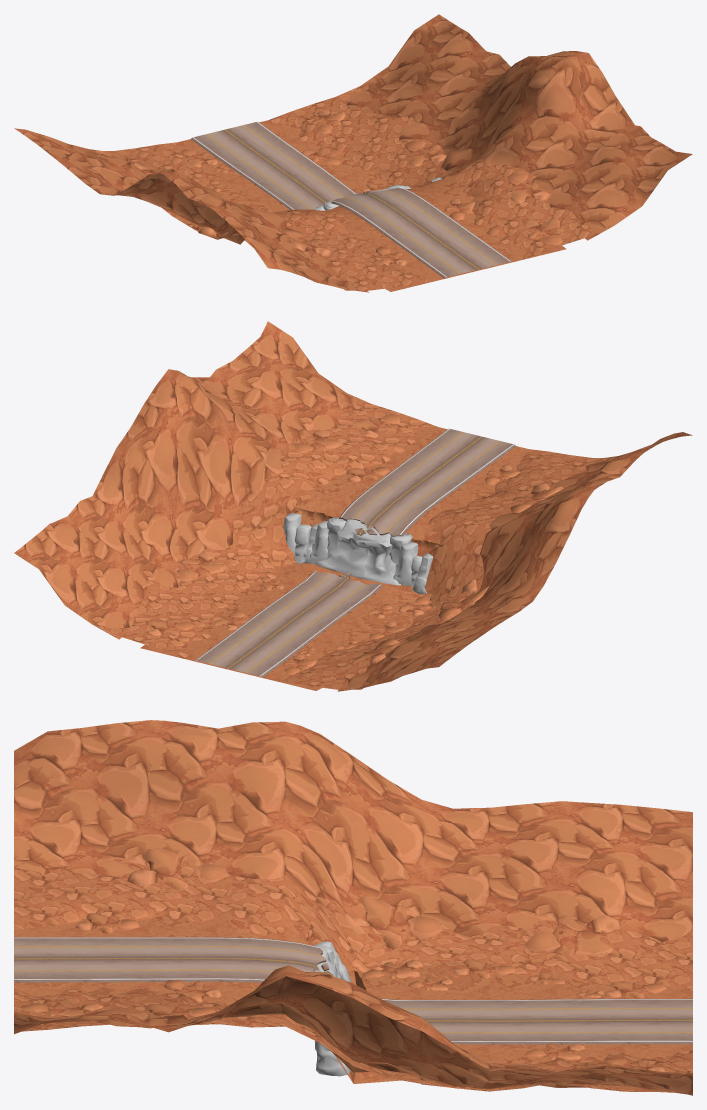
File: Desert_JumpPad.FBX
3 views of the same model, one above another, from view 1: azimuth 30°, elevation 25°; view 2: azimuth 150°, elevation 25°; view 3: azimuth 270°, elevation 25° (orthographic). The views are drawn at different scales.
Visible parts, largest first — view 1: Desert_Jump_L, Desert_Jump_R, Desert_Jump_Road; view 2: Desert_Jump_L, Desert_Jump_R, Desert_Jump_Road, Desert_Jump_Rocks; view 3: Desert_Jump_R, Desert_Jump_L, Desert_Jump_Road, Desert_Jump_Rocks.
Boxes of the visible parts, x1=… form: Desert_Jump_L: x1=259, y1=14, x2=692, y2=270; Desert_Jump_R: x1=14, y1=128, x2=478, y2=292; Desert_Jump_Road: x1=191, y1=121, x2=511, y2=278; Desert_Jump_L: x1=14, y1=321, x2=447, y2=669; Desert_Jump_R: x1=228, y1=432, x2=692, y2=691; Desert_Jump_Road: x1=195, y1=428, x2=515, y2=677; Desert_Jump_Rocks: x1=283, y1=513, x2=432, y2=594; Desert_Jump_R: x1=14, y1=720, x2=692, y2=999; Desert_Jump_L: x1=14, y1=965, x2=692, y2=1095; Desert_Jump_Road: x1=14, y1=937, x2=692, y2=1044; Desert_Jump_Rocks: x1=312, y1=941, x2=351, y2=1076.
Bounding box in the file's own units: 49.07 × 15.57 × 50.
